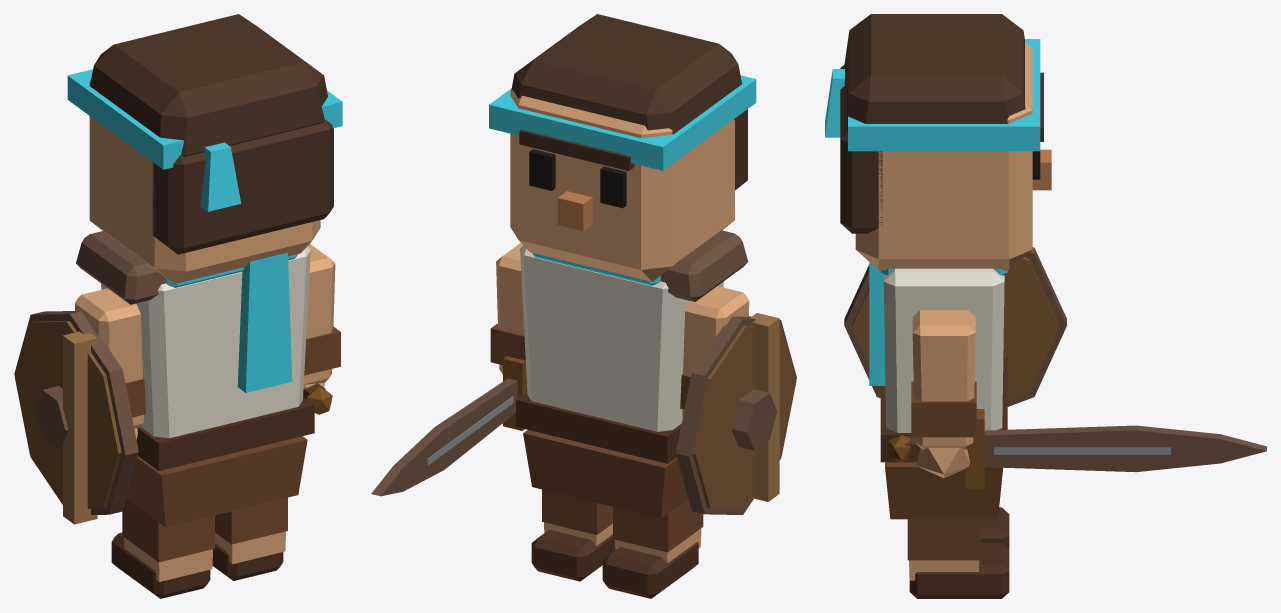
The model's file is CH_Nobody.fbx.
The picture shows the model from 3 angles, left to right: view 1: azimuth 30°, elevation 25°; view 2: azimuth 150°, elevation 25°; view 3: azimuth 270°, elevation 25°; orthographic projection. The views are drawn at different scales.
Parts seen in each view (by area): view 1: Hair, Body, HairBack, Head, Loincloth, Shield, ScarfTail, Belt, ShieldPlank, ShieldRim, Headband, ArmL (+13 smaller); view 2: Body, Head, Hair, Shield, Loincloth, Headband, Blade, Belt, ShieldRim, ShieldPlank, Pauldron, FootL (+17 smaller); view 3: Head, Hair, Body, Blade, Headband, ArmR, Shield, Loincloth, HairBack, FootR, ShinR, WrapR (+10 smaller).
Part boxes in pixels (left/top/right/bottom): Hair: left=90, top=14, right=327, bottom=156; Body: left=101, top=247, right=310, bottom=438; HairBack: left=152, top=120, right=333, bottom=254; Head: left=89, top=79, right=320, bottom=283; Loincloth: left=126, top=436, right=307, bottom=527; Shield: left=15, top=321, right=138, bottom=508; ScarfTail: left=237, top=252, right=292, bottom=392; Belt: left=136, top=397, right=314, bottom=470; ShieldPlank: left=63, top=331, right=97, bottom=524; ShieldRim: left=14, top=311, right=138, bottom=514; Headband: left=67, top=69, right=342, bottom=169; ArmL: left=75, top=288, right=143, bottom=428; Body: left=520, top=245, right=723, bottom=431; Head: left=510, top=90, right=734, bottom=281; Hair: left=511, top=14, right=742, bottom=134; Shield: left=677, top=326, right=796, bottom=508; Loincloth: left=523, top=430, right=688, bottom=518; Headband: left=489, top=75, right=756, bottom=170; Blade: left=371, top=378, right=517, bottom=496; Belt: left=516, top=392, right=681, bottom=463; ShieldRim: left=676, top=316, right=796, bottom=514; ShieldPlank: left=750, top=313, right=779, bottom=501; Pauldron: left=660, top=230, right=748, bottom=301; FootL: left=602, top=542, right=698, bottom=598; Head: left=855, top=42, right=1032, bottom=270; Hair: left=844, top=14, right=1025, bottom=132; Body: left=883, top=268, right=1004, bottom=432; Blade: left=984, top=425, right=1266, bottom=472; Headband: left=848, top=39, right=1040, bottom=151; ArmR: left=912, top=310, right=975, bottom=449; Shield: left=852, top=257, right=1059, bottom=401; Loincloth: left=885, top=462, right=1003, bottom=519; HairBack: left=840, top=64, right=882, bottom=233; FootR: left=909, top=543, right=1009, bottom=598; ShinR: left=907, top=519, right=980, bottom=560; WrapR: left=911, top=381, right=976, bottom=437.
Bounding box in the file's own units: 0.81 × 1.15 × 1.51.
